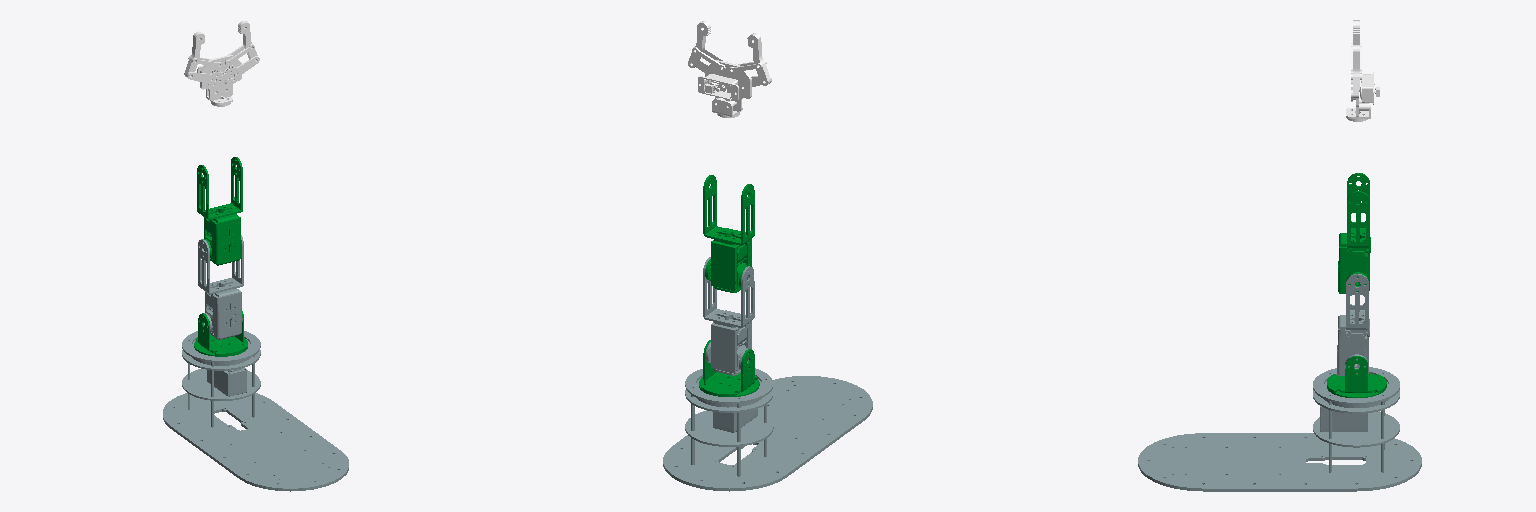
URDF robot description (arm):
<?xml version="1.0" encoding="UTF-8" ?>
<robot name="arm">
    <link name="base_link">
        <visual>
            <origin xyz="0 0 0" rpy="0 0 0" />
            <geometry>
                <mesh filename="package://dofbot_info/meshes/base_link.STL" />
            </geometry>
            <material name="">
                <color rgba="0.592156862745098 0.666666666666667 0.682352941176471 1" />
            </material>
        </visual>
        <collision>
            <origin xyz="0 0 0" rpy="0 0 0" />
            <geometry>
                <mesh filename="package://dofbot_info/meshes/base_link.STL" />
            </geometry>
        </collision>
    </link>
    <link name="link1">
        <visual>
            <origin xyz="0 0 0" rpy="0 0 0" />
            <geometry>
                <mesh filename="package://dofbot_info/meshes/link1.STL" />
            </geometry>
            <material name="">
                <color rgba="0 0.627450980392157 0.235294117647059 1" />
            </material>
        </visual>
        <collision>
            <origin xyz="0 0 0" rpy="0 0 0" />
            <geometry>
                <mesh filename="package://dofbot_info/meshes/link1.STL" />
            </geometry>
        </collision>
    </link>
    <joint name="joint1" type="revolute">
        <origin xyz="0 0 0.06605" rpy="-0.010805 0 0" />
        <parent link="base_link" />
        <child link="link1" />
        <axis xyz="0 0 1" />
        <limit effort="30" velocity="1.0" lower="-1.5708" upper="1.5708"/>
    </joint>
    <link name="link2">
        <visual>
            <origin xyz="0 0 0" rpy="0 0 0" />
            <geometry>
                <mesh filename="package://dofbot_info/meshes/link2.STL" />
            </geometry>
            <material name="">
                <color rgba="0.592156862745098 0.666666666666667 0.682352941176471 1" />
            </material>
        </visual>
        <collision>
            <origin xyz="0 0 0" rpy="0 0 0" />
            <geometry>
                <mesh filename="package://dofbot_info/meshes/link2.STL" />
            </geometry>
        </collision>
    </link>
    <joint name="joint2" type="revolute">
        <origin xyz="0 -0.00031873 0.04145" rpy="0 1.5708 0" />
        <parent link="link1" />
        <child link="link2" />
        <axis xyz="0 0 1" />
        <limit effort="30" velocity="1.0" lower="-1.5708" upper="1.5708"/>
    </joint>
    <link name="link3">
        <visual>
            <origin xyz="0 0 0" rpy="0 0 0" />
            <geometry>
                <mesh filename="package://dofbot_info/meshes/link3.STL" />
            </geometry>
            <material name="">
                <color rgba="0 0.627450980392157 0.235294117647059 1" />
            </material>
        </visual>
        <collision>
            <origin xyz="0 0 0" rpy="0 0 0" />
            <geometry>
                <mesh filename="package://dofbot_info/meshes/link3.STL" />
            </geometry>
        </collision>
    </link>
    <joint name="joint3" type="revolute">
        <origin xyz="-0.08285 0 0" rpy="0 0 0" />
        <parent link="link2" />
        <child link="link3" />
        <axis xyz="0 0 1" />
        <limit effort="30" velocity="1.0" lower="-1.5708" upper="1.5708"/>
    </joint>
    <link name="link4">
        <visual>
            <origin xyz="0 0 0" rpy="0 0 0" />
            <geometry>
                <mesh filename="package://dofbot_info/meshes/link4.STL" />
            </geometry>
            <material name="">
                <color rgba="0.592156862745098 0.666666666666667 0.682352941176471 1" />
            </material>
        </visual>
        <collision>
            <origin xyz="0 0 0" rpy="0 0 0" />
            <geometry>
                <mesh filename="package://dofbot_info/meshes/link4.STL" />
            </geometry>
        </collision>
    </link>
    <joint name="joint4" type="revolute">
        <origin xyz="-0.08285 0 0" rpy="0 0 0.0083081" />
        <parent link="link3" />
        <child link="link4" />
        <axis xyz="0 0 1" />
        <limit effort="30" velocity="1.0" lower="-1.5708" upper="1.5708"/>
    </joint>
    <!-- link5 -->
    <link name="link5">
        <visual>
            <origin xyz="0 0 0" rpy="0 0 0"/>
            <geometry>
                <mesh filename="package://dofbot_info/meshes/link5.STL"/>
            </geometry>
            <material name="">
                <color rgba="1 1 1 1" />
            </material>
        </visual>
        <collision>
            <origin xyz="0 0 0" rpy="0 0 0" />
            <geometry>
                <mesh filename="package://dofbot_info/meshes/link5.STL" />
            </geometry>
        </collision>
    </link>
    <!-- joint5 -->
    <joint name="joint5" type="revolute">
        <origin xyz="-0.07385 -0.001 0" rpy="0 -1.57 0"/>
        <axis xyz="0 0 1"/>
        <parent link="link4"/>
        <child link="link5"/>
        <limit effort="30" velocity="1.0" lower="-1.5708" upper="3.1416"/>
    </joint>
</robot>

--- Facts derived from the render (not from the file) ---
Views: 3 orthographic renders of the robot side by side, from view 1: azimuth 30°, elevation 25°; view 2: azimuth 150°, elevation 25°; view 3: azimuth 270°, elevation 25°.
Robot: arm — 6 links, 5 joints (5 revolute); root link base_link; default pose: all joints at 0.
Visible links, largest first — view 1: base_link, link3, link5, link2, link1; view 2: base_link, link5, link3, link2, link1; view 3: base_link, link3, link2, link5, link1.
Link boxes in pixels (x1,y1,x2,y2): base_link: [163, 331, 348, 491]; link3: [197, 157, 242, 265]; link5: [184, 21, 259, 106]; link2: [198, 235, 243, 339]; link1: [194, 311, 247, 356]; base_link: [663, 368, 872, 491]; link5: [688, 21, 771, 117]; link3: [703, 175, 754, 292]; link2: [703, 257, 754, 375]; link1: [699, 340, 759, 396]; base_link: [1138, 367, 1421, 491]; link3: [1338, 173, 1370, 293]; link2: [1337, 274, 1369, 375]; link5: [1346, 20, 1379, 121]; link1: [1327, 356, 1386, 397].
Bounding box of the posed robot: 0.12 × 0.2593 × 0.4351 m (x, y, z).
Meshes: 6 distinct files referenced, 5 mesh visuals loaded (5 binary STL); not drawn: 1 (reference not matched to a file when rendering).